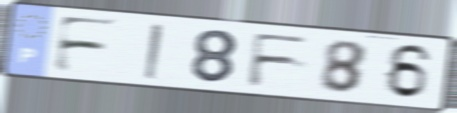6: (381, 42, 433, 102)
8: (318, 38, 369, 95), (190, 28, 240, 85)
F: (49, 14, 122, 75), (244, 31, 314, 89)
I: (141, 21, 165, 82)
